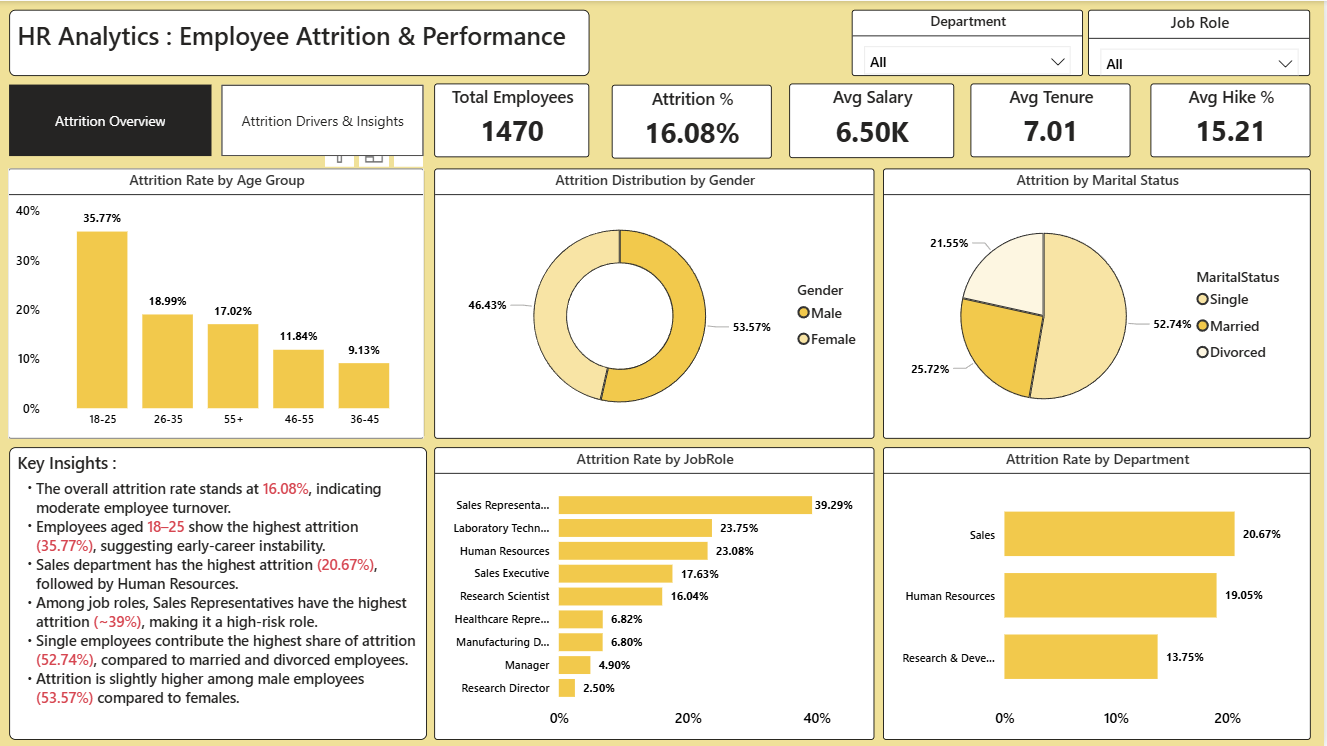

The page's visual inventory and layout, read from the dashboard file:
{"tool":"powerbi","page":{"name":"Attrition Overview","canvas":[1280,720],"ordinal":0},"visuals":[{"type":"card","title":"Avg Tenure","fields":{"Values":["Avg(HR_Analytics.YearsAtCompany)"]},"box":[938.6,79.6,154.4,71.2],"z":0},{"type":"card","title":"Avg Hike %","fields":{"Values":["Avg(HR_Analytics.PercentSalaryHike)"]},"box":[1112.3,79.6,154.4,71.2],"z":1000},{"type":"card","title":"Attrition %","fields":{"Values":["_Measure.Attrition%"]},"box":[592.4,80.8,154.4,71.2],"z":2000},{"type":"columnChart","title":"Attrition Rate by Age Group","fields":{"Category":["HR_Analytics.AgeGroup"],"Y":["_Measure.Attrition%"]},"box":[9.7,161.7,401.7,260.6],"z":3000},{"type":"pieChart","title":"Attrition  by Marital Status","fields":{"Category":["HR_Analytics.MaritalStatus"],"Y":["_Measure.Attrition%"]},"box":[854.2,161.7,412.6,260.6],"z":4000},{"type":"donutChart","title":"Attrition Distribution by Gender","fields":{"Y":["_Measure.Attrition%"],"Category":["HR_Analytics.Gender"]},"box":[421,161.7,424.7,260.6],"z":5000},{"type":"textbox","box":[0,809.1,1925,352.3],"z":6000},{"type":"barChart","title":"Attrition Rate by JobRole","fields":{"Category":["HR_Analytics.JobRole"],"Y":["_Measure.Attrition%"]},"box":[421,430.7,424.7,282.3],"z":7000},{"type":"barChart","title":"Attrition Rate by Department","fields":{"Y":["_Measure.Attrition%"],"Category":["HR_Analytics.Department"]},"box":[854.2,430.7,412.6,282.3],"z":8000},{"type":"card","title":"Total Employees","fields":{"Values":["Count(HR_Analytics.EmpID)"]},"box":[421,79.6,149.6,71.2],"z":9000},{"type":"slicer","title":"Job Role","fields":{"Values":["HR_Analytics.JobRole"]},"box":[1052,8.4,214.7,63.9],"z":10000},{"type":"slicer","title":"Department","fields":{"Values":["HR_Analytics.Department"]},"box":[824,8.4,223.2,63.9],"z":11000},{"type":"card","title":"Avg Salary","fields":{"Values":["Avg(HR_Analytics.MonthlyIncome)"]},"box":[763.7,79.6,159.3,72.4],"z":12000},{"type":"pageNavigator","box":[10.9,80.8,400.5,70],"z":13000},{"type":"textbox","box":[10.9,8.4,559.8,63.9],"z":14000},{"type":"textbox","title":"Key Insights :","box":[10.9,430.7,403,282.3],"z":15000}]}

Visuals, with their boxes in screenshot pixels (x1, y1, x2, y2), scaled from the page's 1280x720 canvas onto the 1327x746 screenshot:
"Avg Tenure" card: x1=973, y1=82, x2=1133, y2=156
"Avg Hike %" card: x1=1153, y1=82, x2=1313, y2=156
"Attrition %" card: x1=614, y1=84, x2=774, y2=157
"Attrition Rate by Age Group" columnChart: x1=10, y1=168, x2=427, y2=438
"Attrition  by Marital Status" pieChart: x1=886, y1=168, x2=1313, y2=438
"Attrition Distribution by Gender" donutChart: x1=436, y1=168, x2=877, y2=438
"Attrition Rate by JobRole" barChart: x1=436, y1=446, x2=877, y2=739
"Attrition Rate by Department" barChart: x1=886, y1=446, x2=1313, y2=739
"Total Employees" card: x1=436, y1=82, x2=592, y2=156
"Job Role" slicer: x1=1091, y1=9, x2=1313, y2=75
"Department" slicer: x1=854, y1=9, x2=1086, y2=75
"Avg Salary" card: x1=792, y1=82, x2=957, y2=157
pageNavigator: x1=11, y1=84, x2=427, y2=156
textbox: x1=11, y1=9, x2=592, y2=75
"Key Insights :" textbox: x1=11, y1=446, x2=429, y2=739
